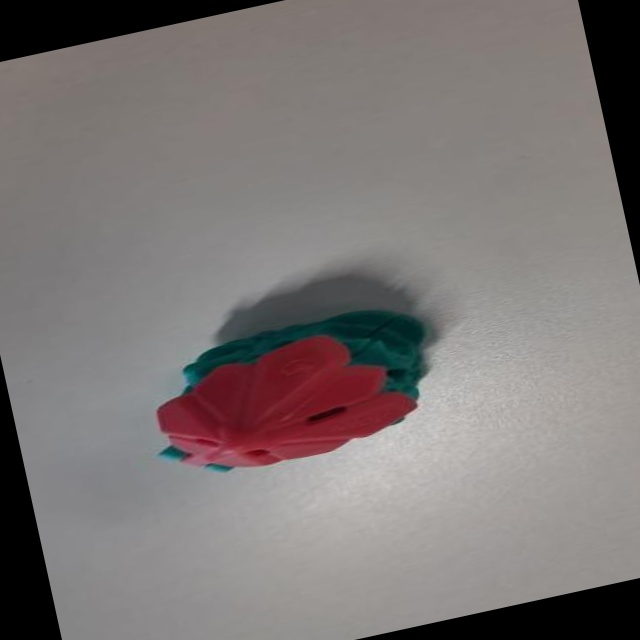House: (138, 286, 464, 497)
